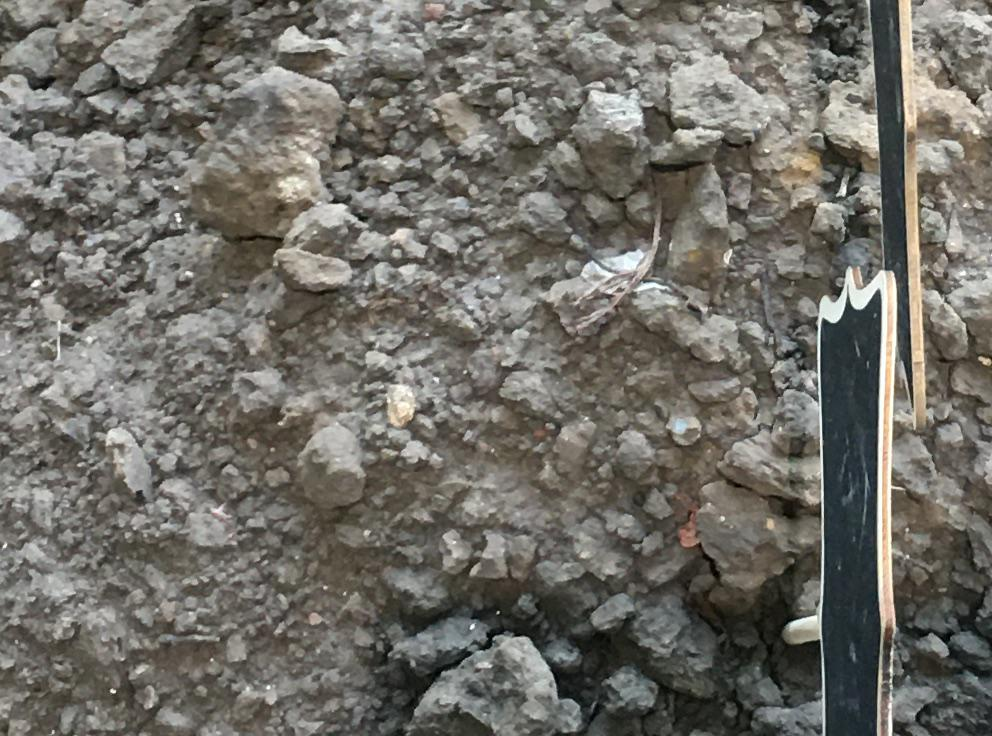block: (184, 70, 342, 238)
